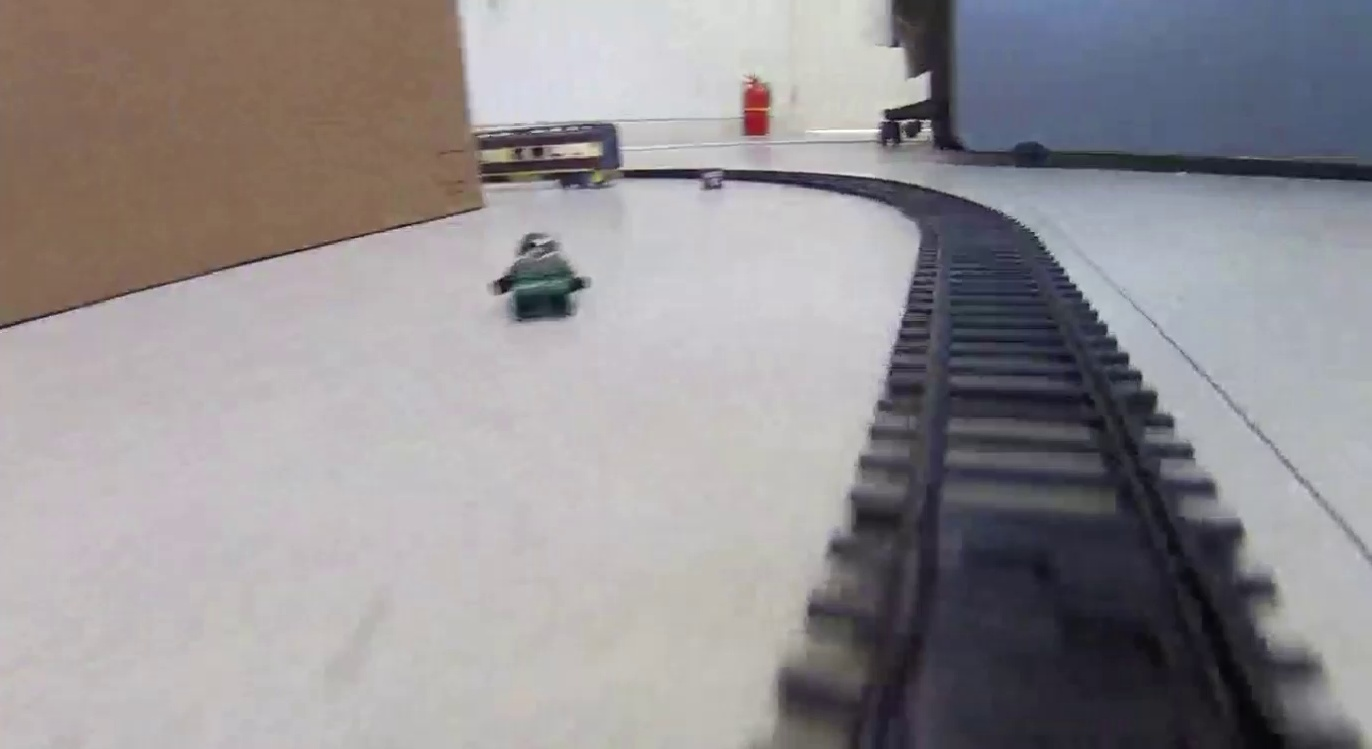people: (488, 229, 596, 318)
